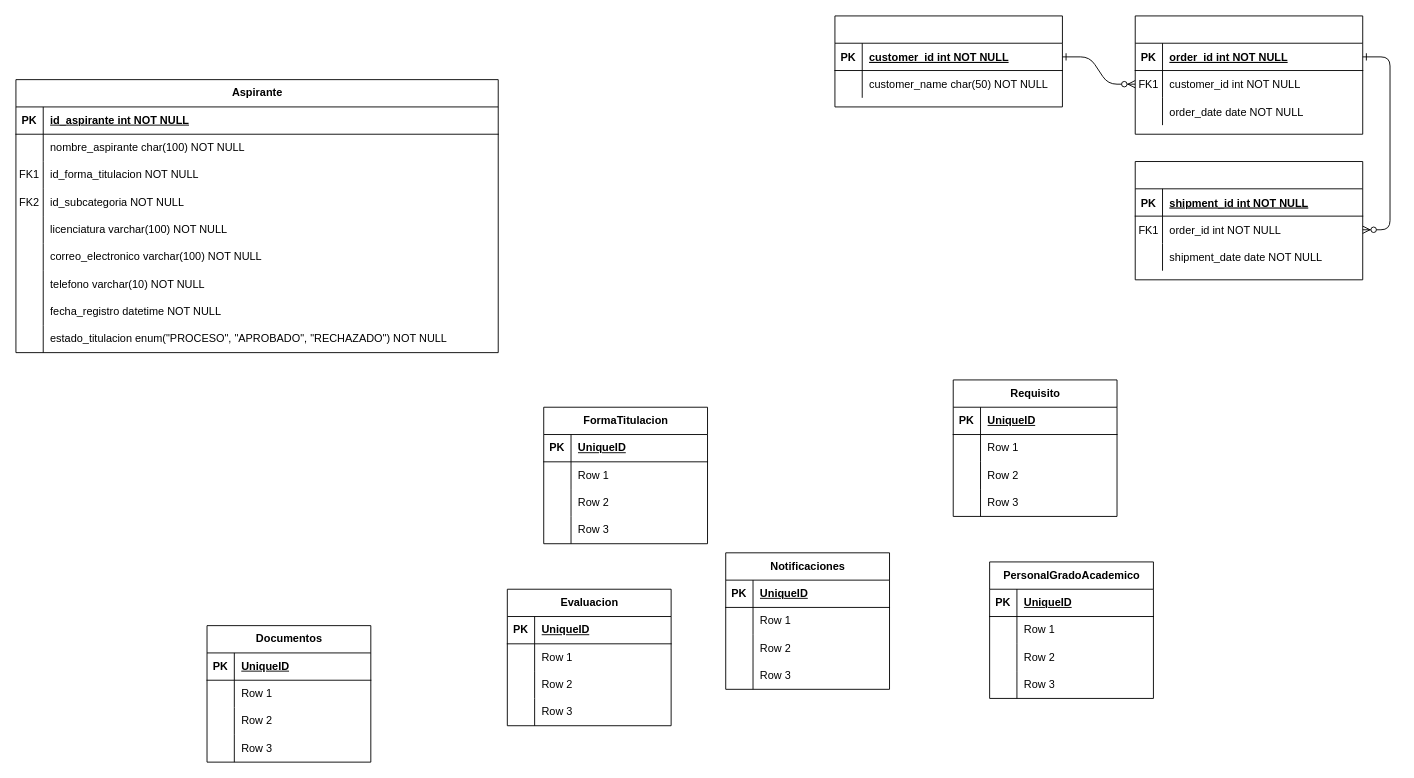
The diagram is 1414 pixels wide and 778 high, and some of its shapes have lost their labels. The box of each missing label's shape, as (x1, y1, x2, y2) in pixels:
Customers: (834, 15, 1062, 107)
Orders: (1134, 15, 1363, 134)
Shipments: (1134, 161, 1363, 280)
